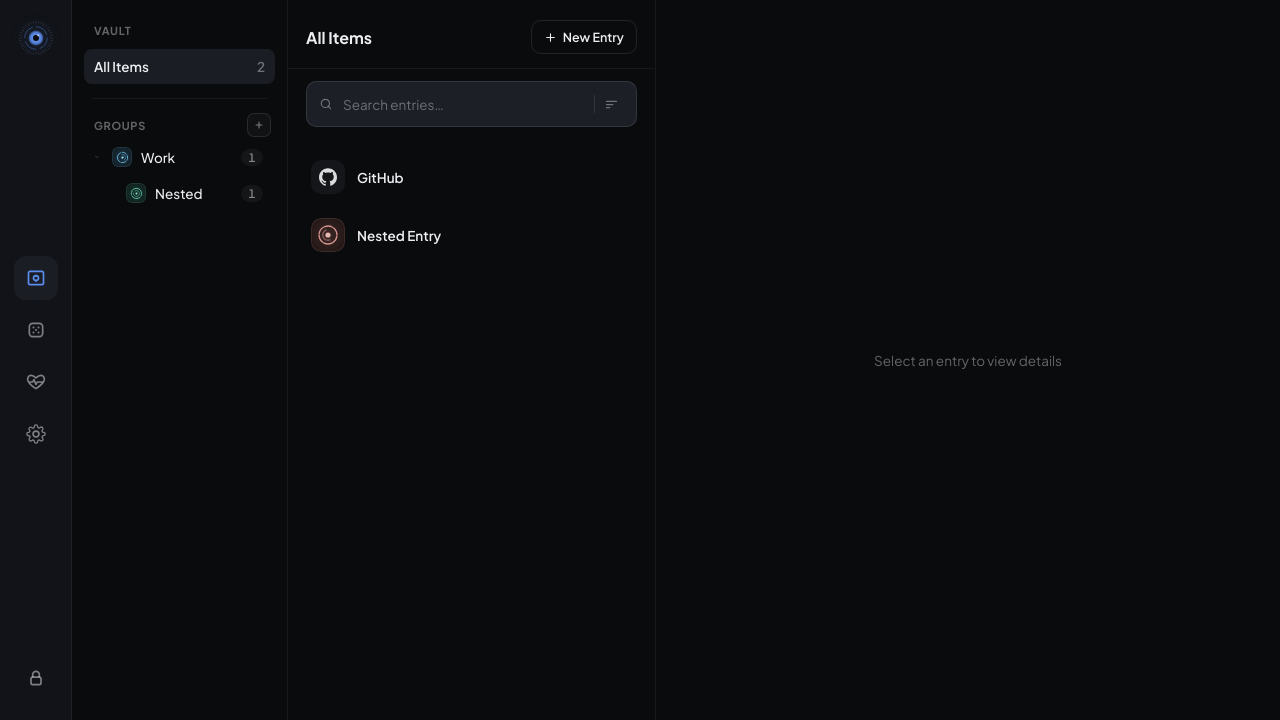
VaultShell › filters the entry list to the selected group's own entries only (not nested)
The width and height of the screenshot is (1280, 720).
Click the button "Work 1". click: (188, 157)
box: [108,139,267,175]
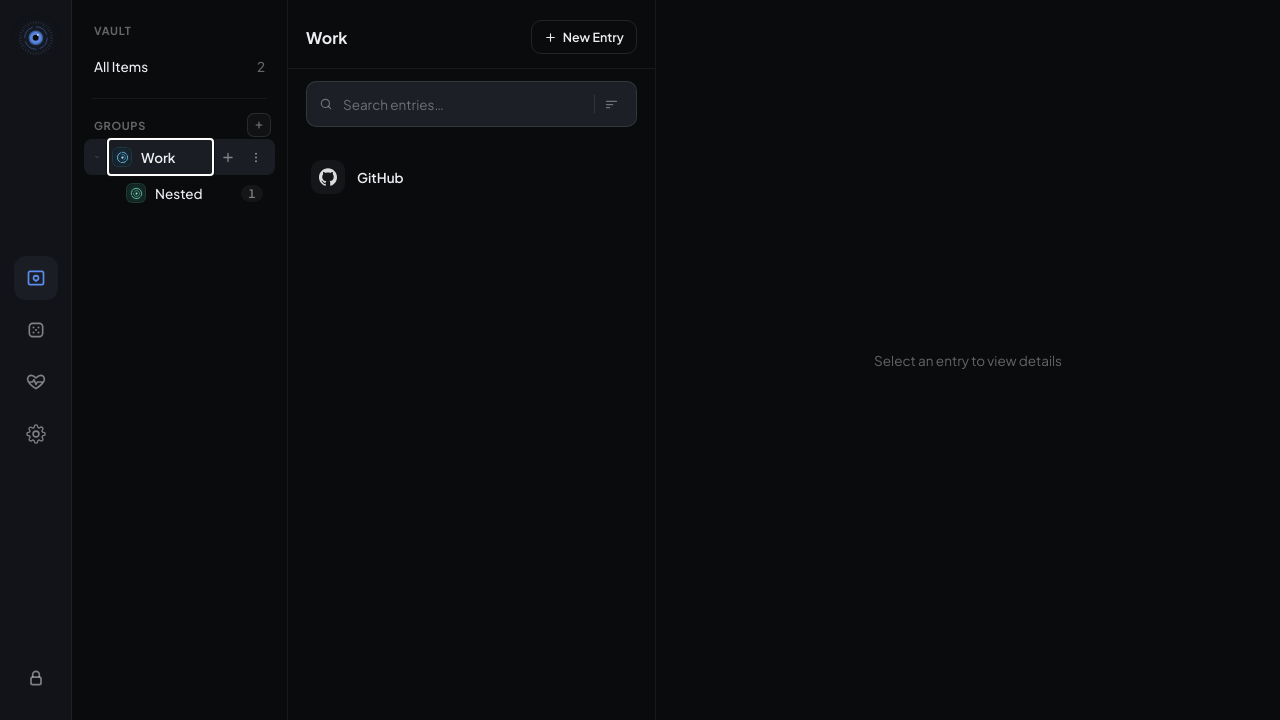
Check: the text "GitHub" is shown, box [357,168,404,186]
Check: the button "Nested Entry" is gone
Click the button "All Items 2". click: (180, 66)
box: [84,49,275,84]
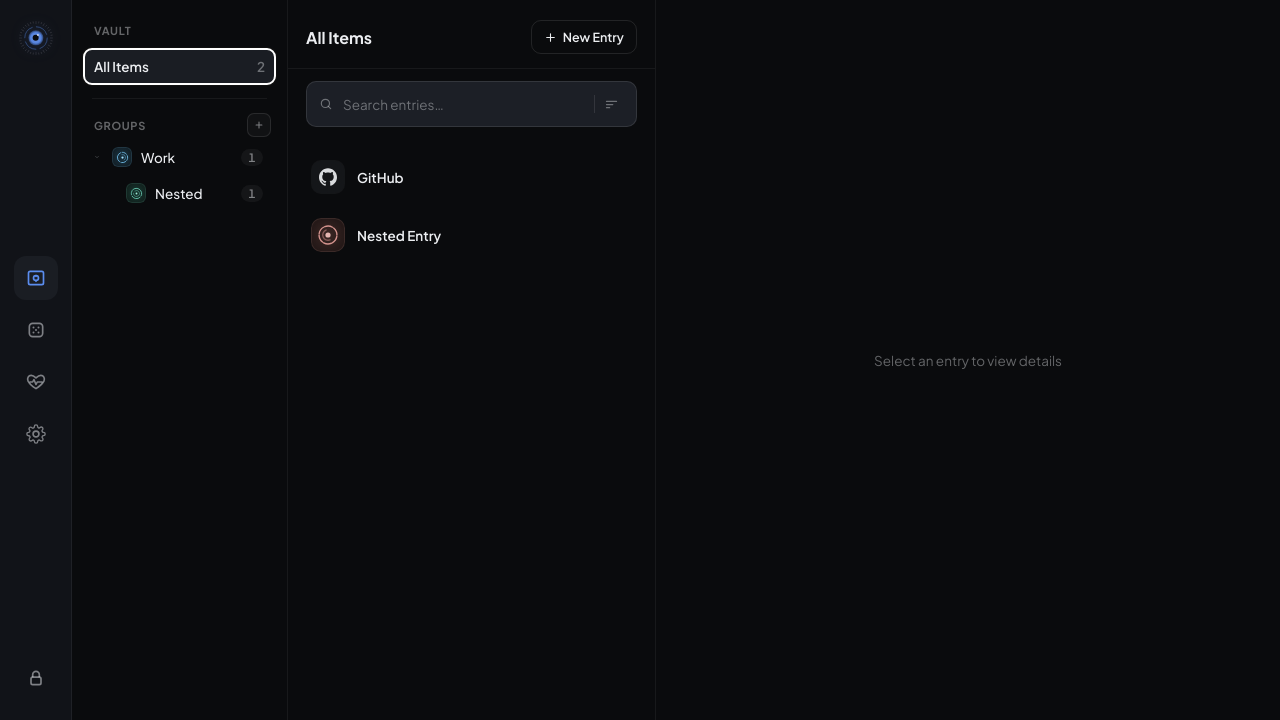
Check: the text "GitHub" is shown, box [357,168,404,186]
Check: the text "Nested Entry" is shown, box [357,226,441,244]
